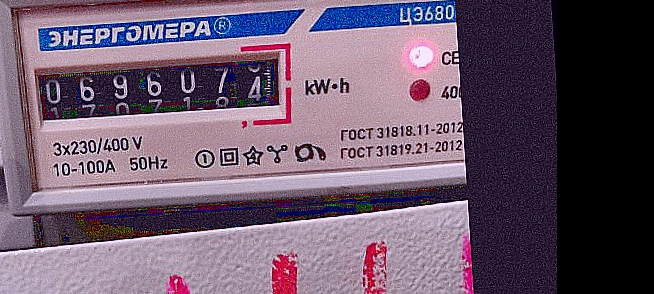0: (41, 76, 64, 105), (177, 64, 197, 94), (77, 74, 95, 101)
4: (244, 73, 263, 102)
6: (143, 66, 162, 97)
7: (210, 63, 230, 93)
9: (110, 70, 129, 100)
screen: (19, 38, 297, 139)
